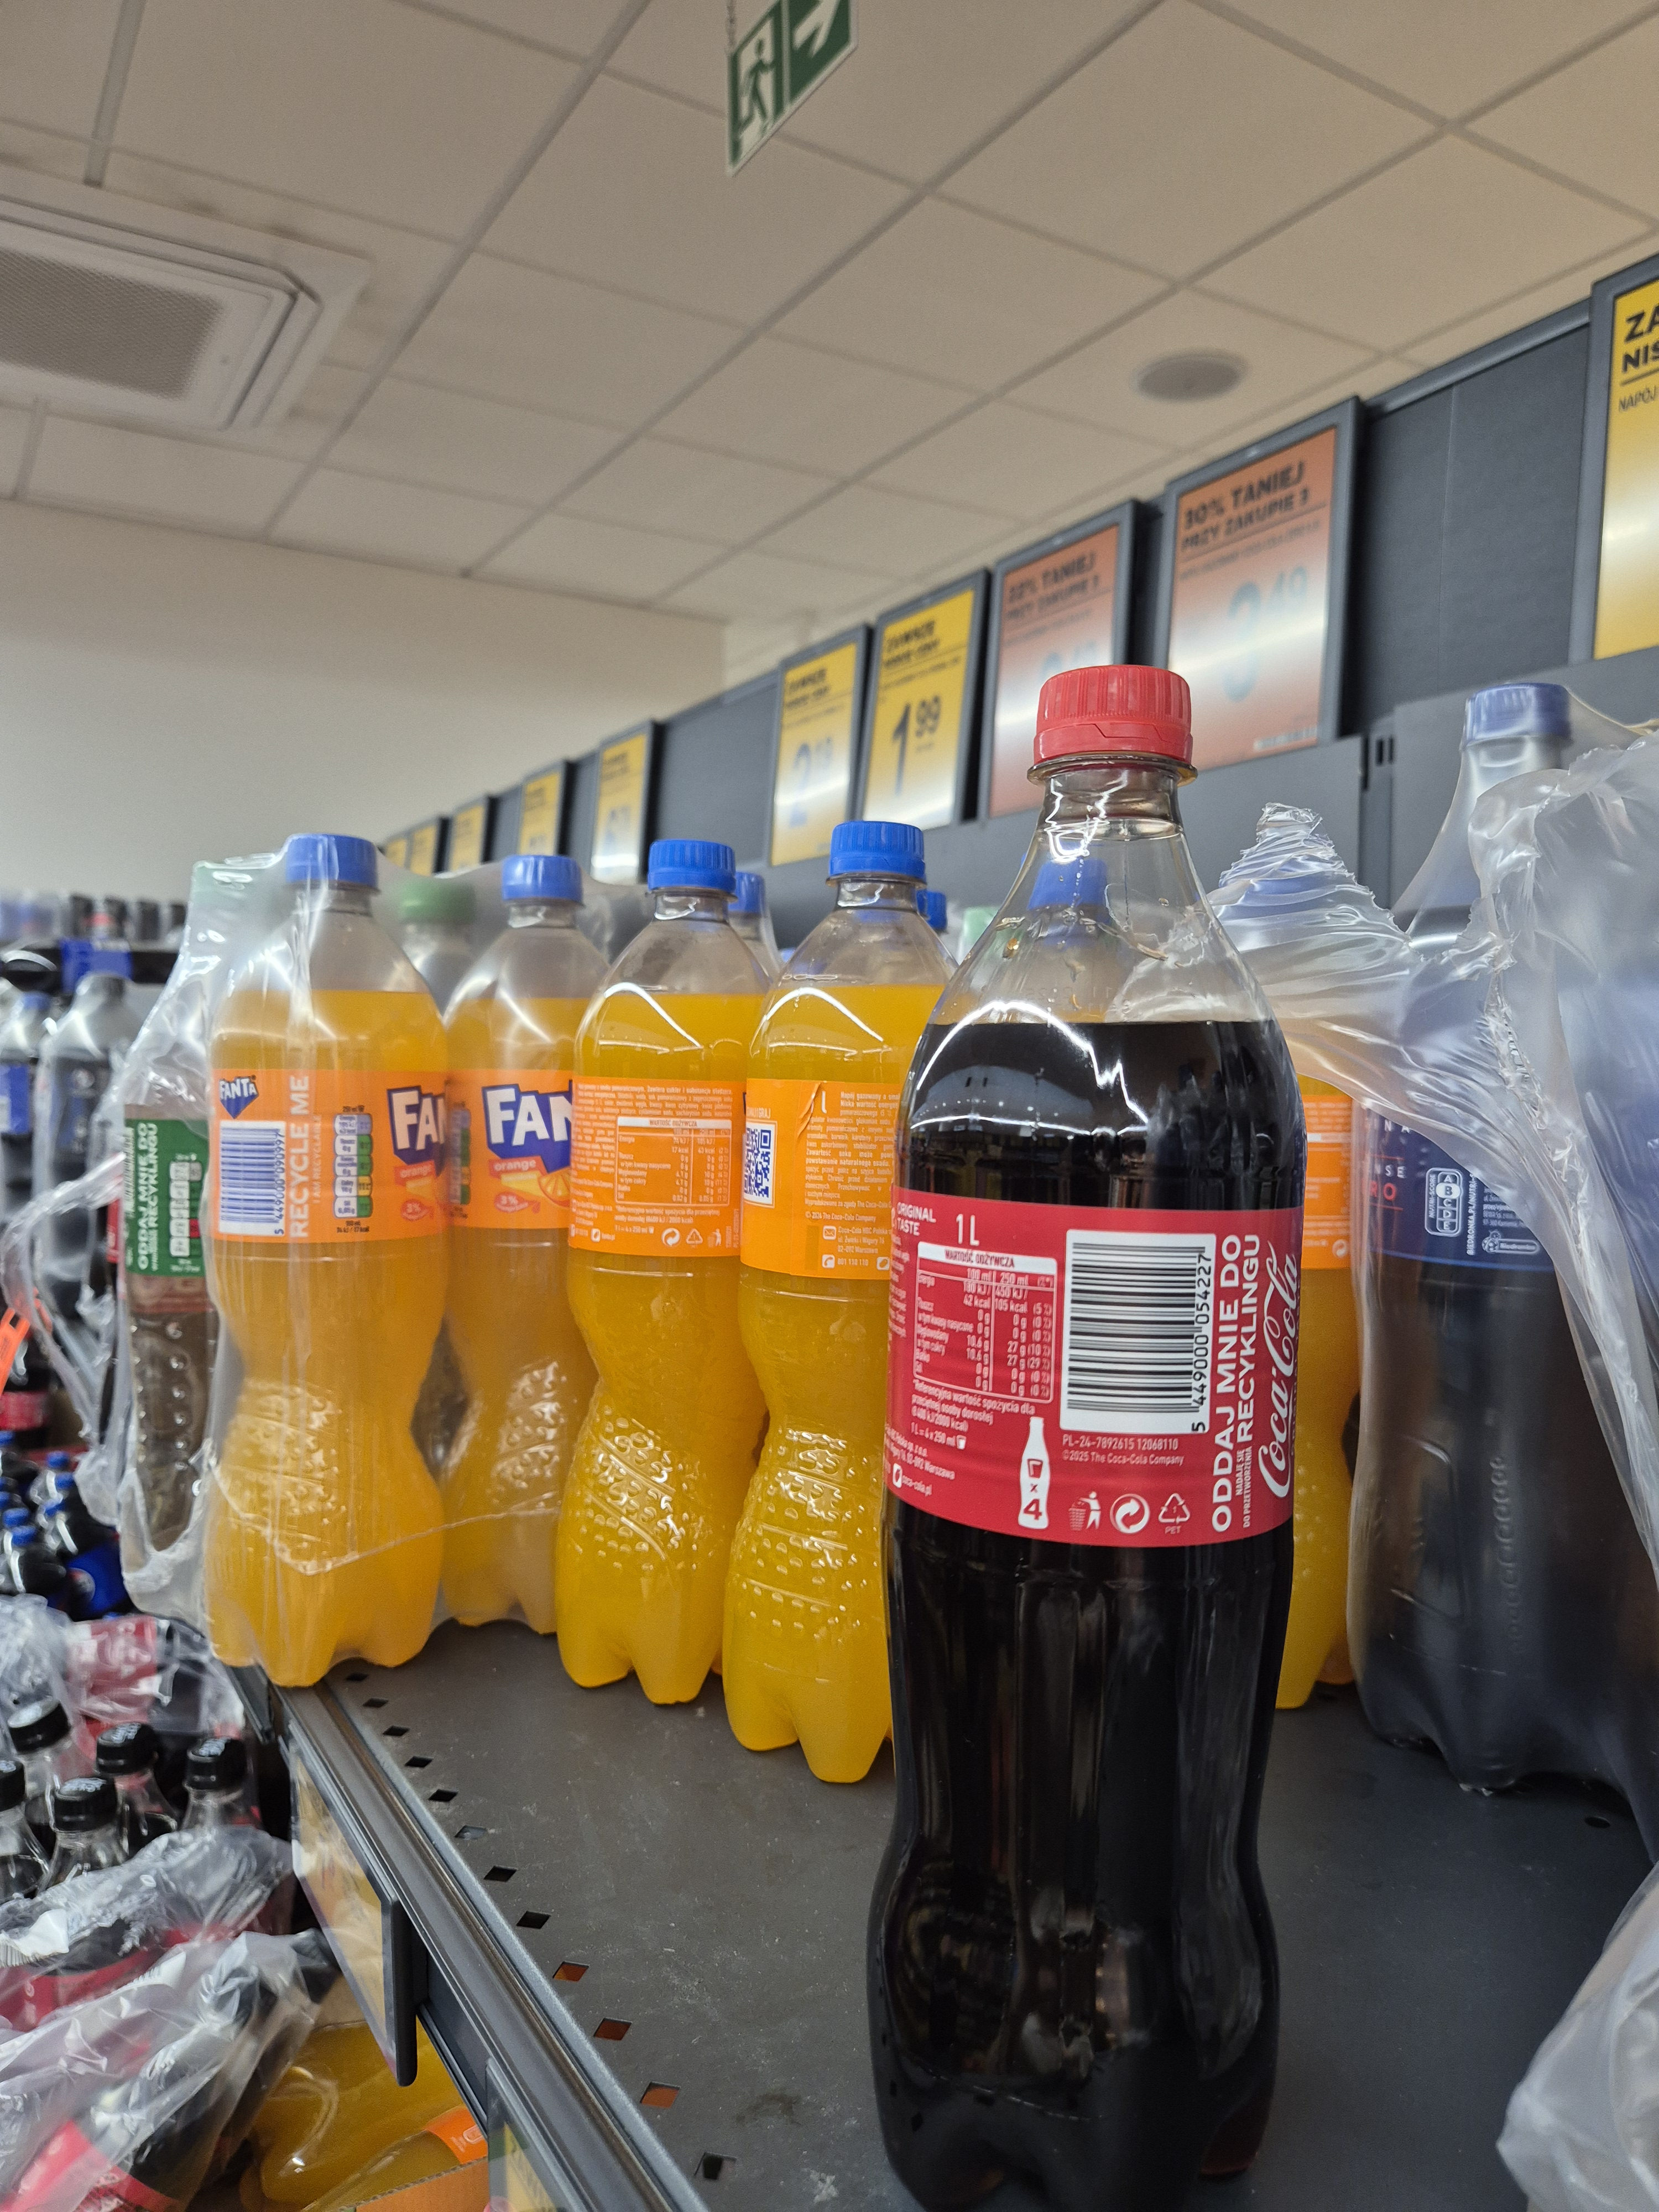Coca Cola: (892, 669, 1310, 2202)
